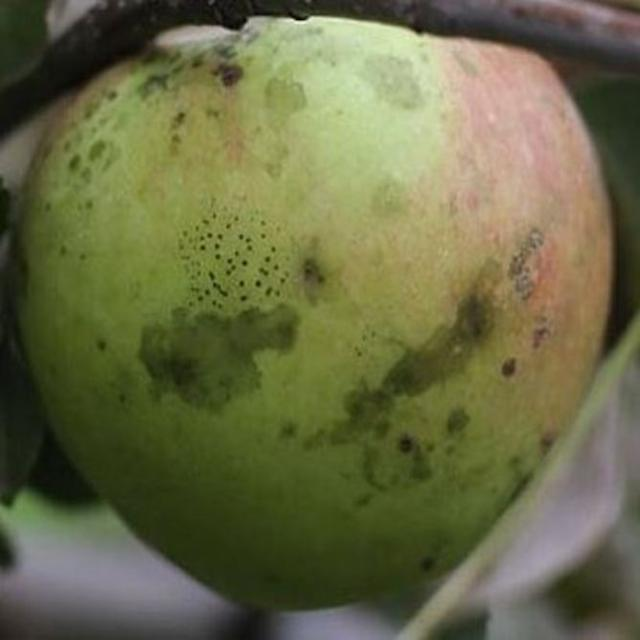Rotten Apple: (35, 18, 610, 610)
